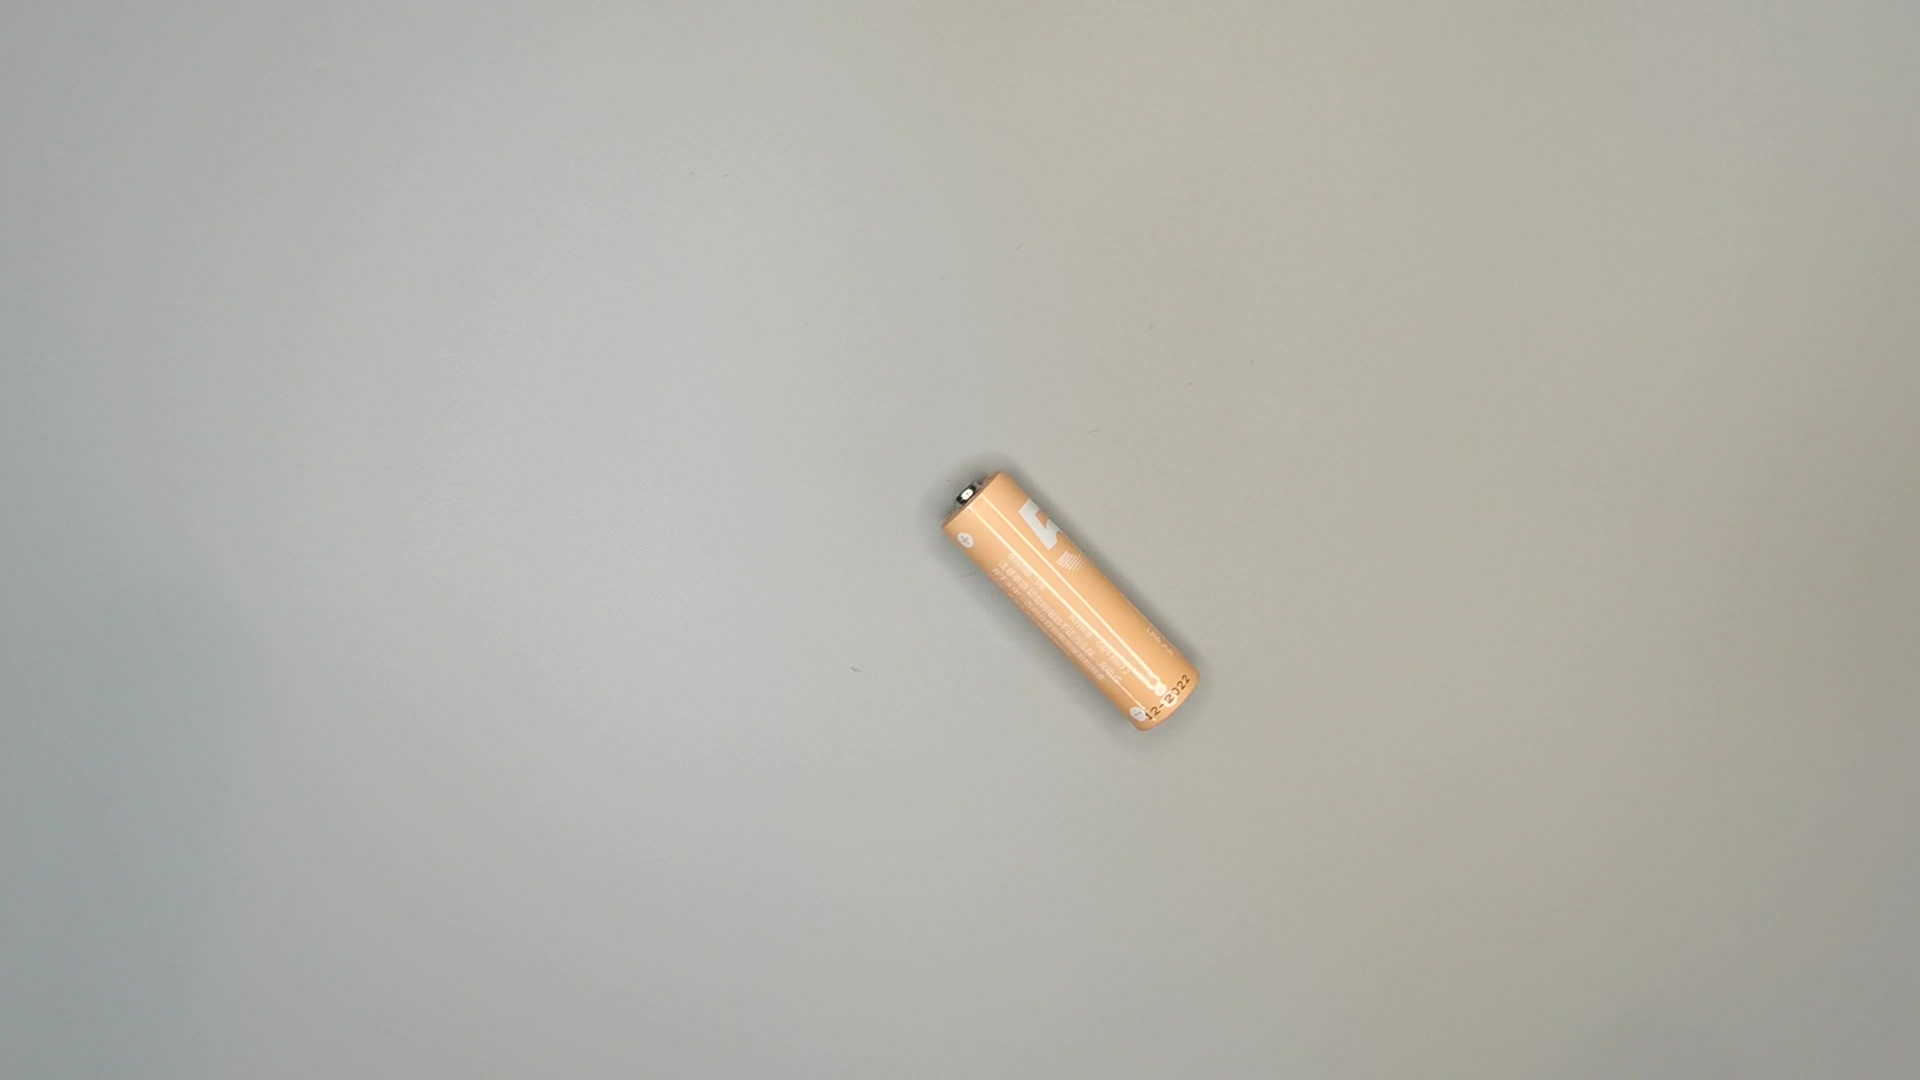battery: (938, 463, 1207, 737)
